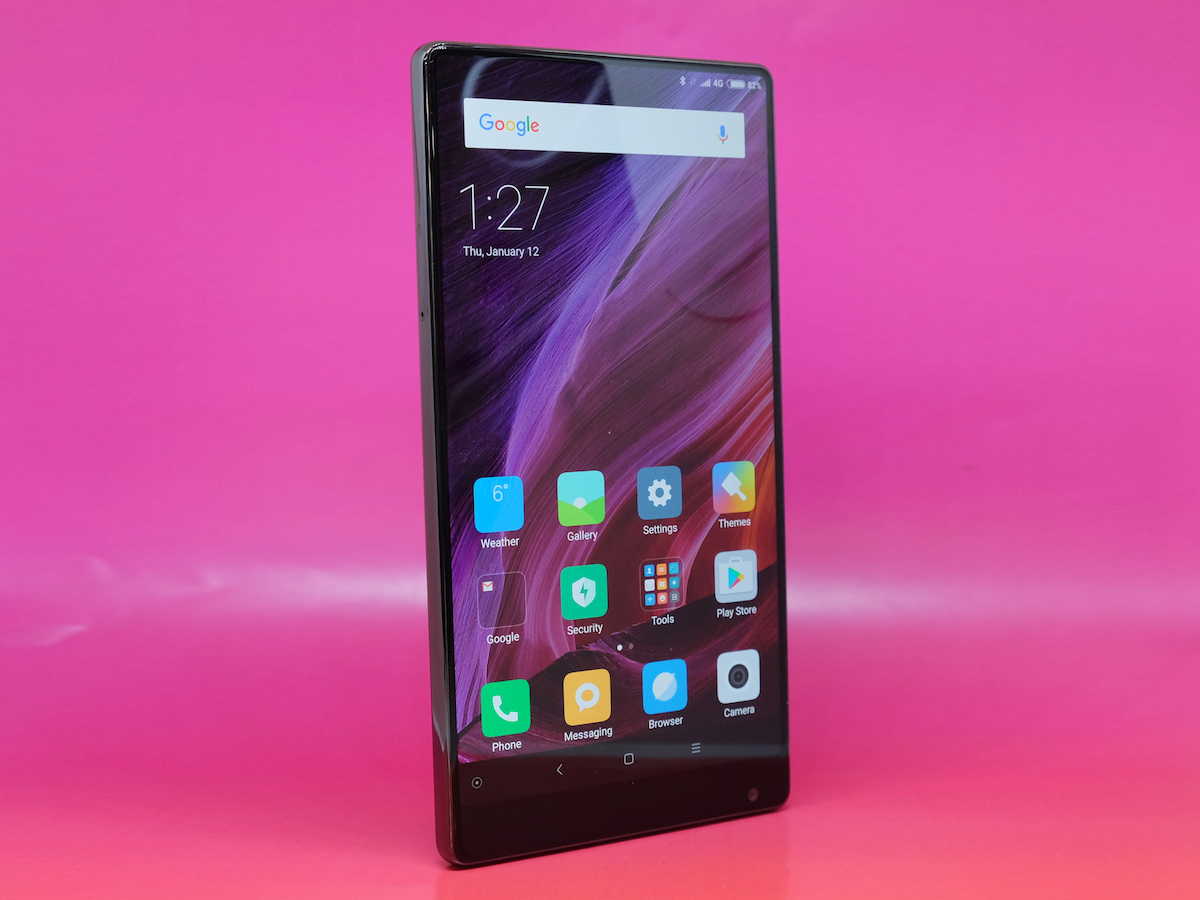smartphone: (410, 40, 791, 869)
